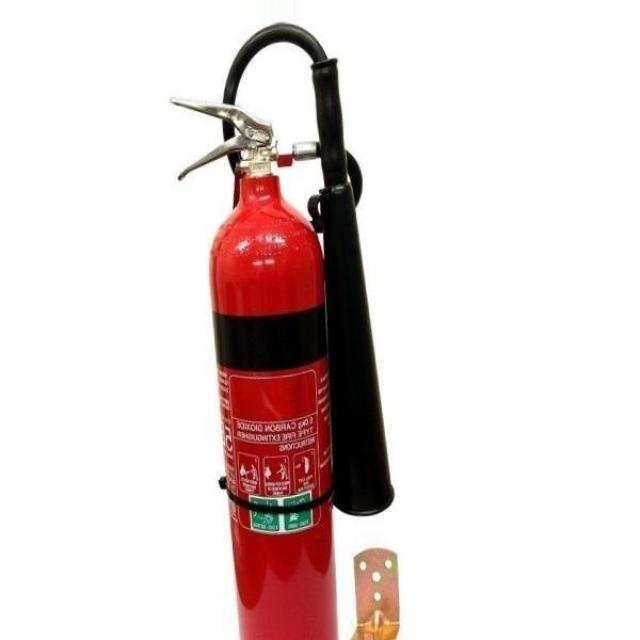fire_extinguisher: (162, 16, 400, 639)
